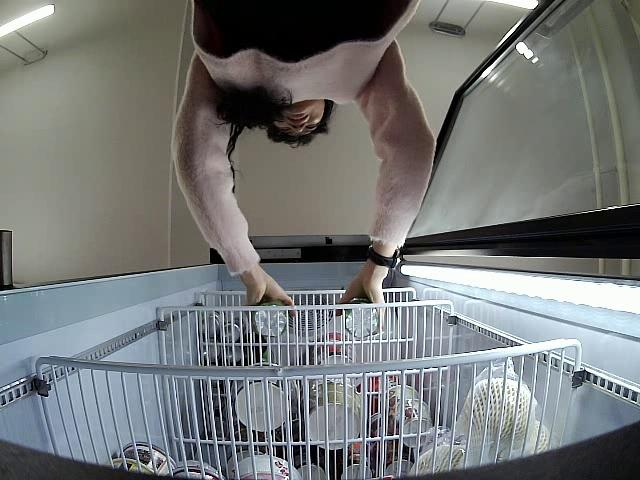00_hand: (329, 281, 387, 336), (242, 282, 296, 323)
